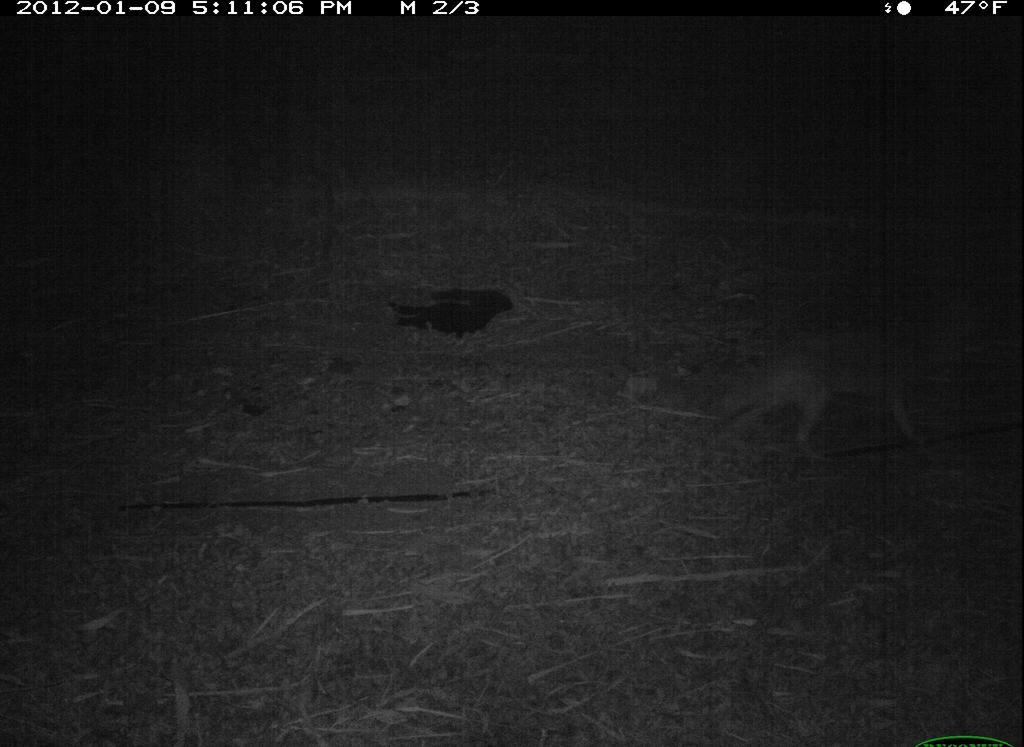coyote: (715, 301, 986, 470)
